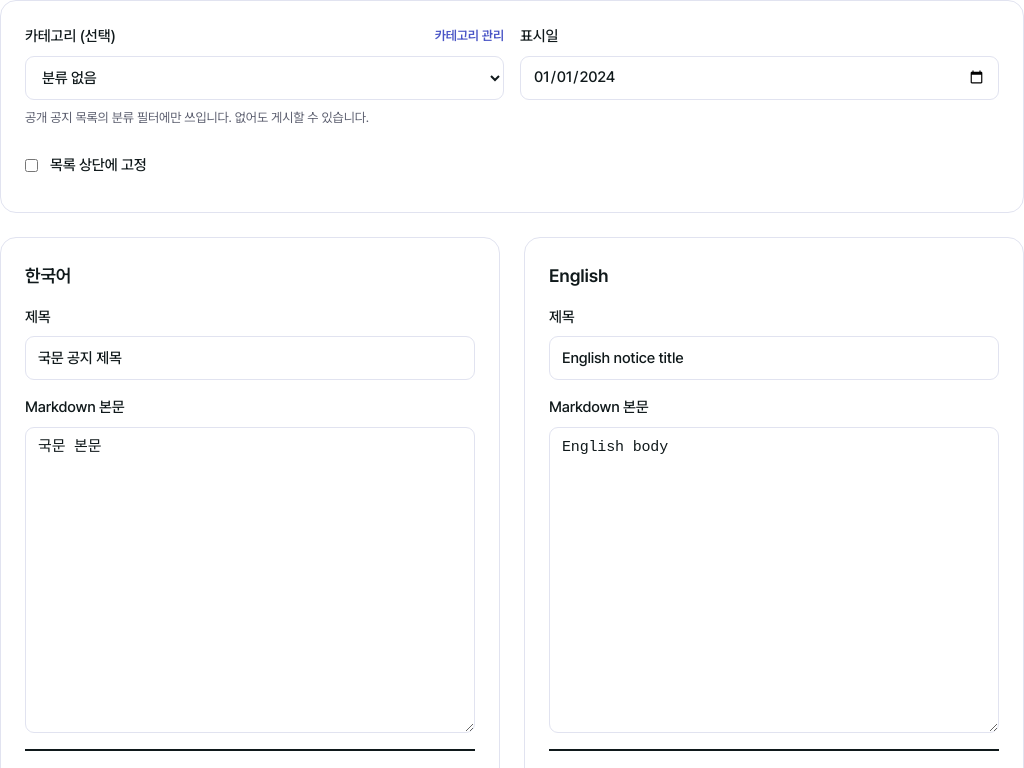
Test case: NoticeForm 저장 및 게시 검증 › 필드를 바꾸면 저장 전에는 언어별 게시 버튼이 비활성화된다
The width and height of the screenshot is (1024, 768).
Replace the text in the field labelled "제목" below "한국어" with "수정된 공지 제목" at coordinates (250, 358), box [25,336,475,380]
(page scrolled)
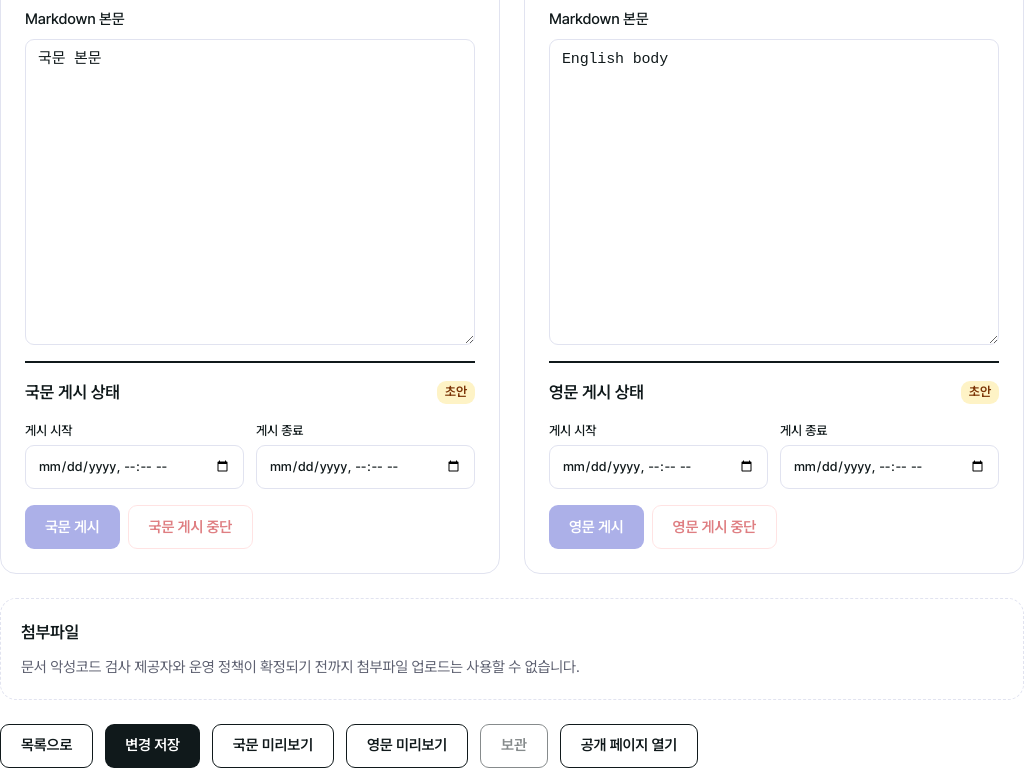
Expected: the button "국문 게시" is disabled, [25,505,120,549]
